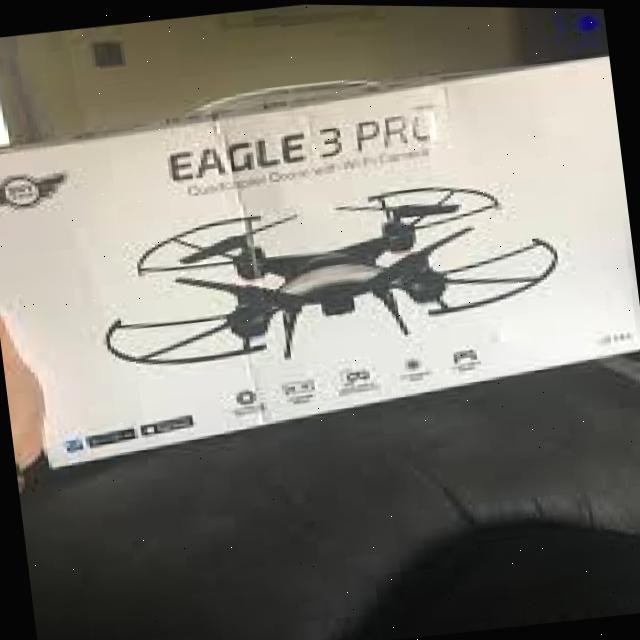drone: (86, 159, 582, 392)
